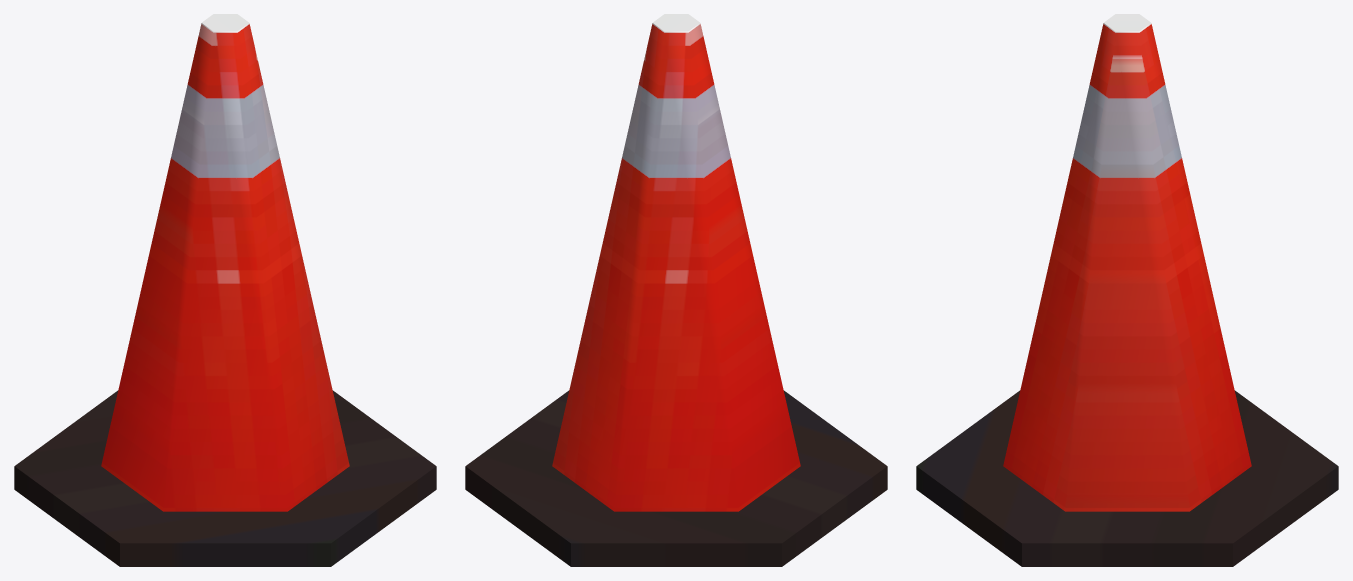
Rendered from Cono.fbx.
3 views of the same model, side by side, from view 1: azimuth 30°, elevation 25°; view 2: azimuth 150°, elevation 25°; view 3: azimuth 270°, elevation 25° (orthographic).
Visible parts, largest first — view 1: Cilindro.002; view 2: Cilindro.002; view 3: Cilindro.002.
Part boxes in pixels (x1,y1,x2,y2): Cilindro.002: (14,14,436,566); Cilindro.002: (465,14,887,566); Cilindro.002: (916,14,1338,566).
Bounding box in the file's own units: 309 × 435 × 356.
